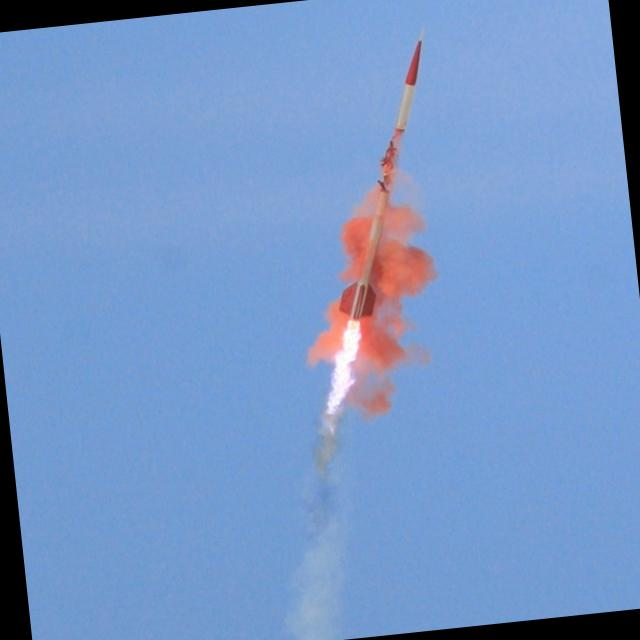rocket: (292, 37, 464, 421)
